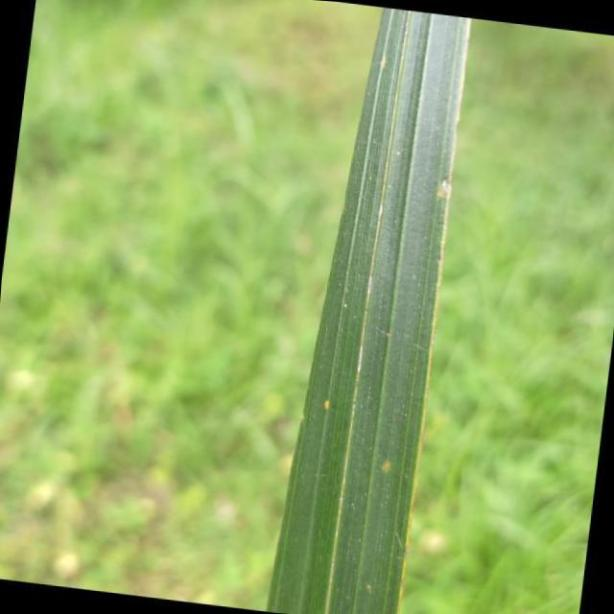Boron: (266, 0, 470, 614)
